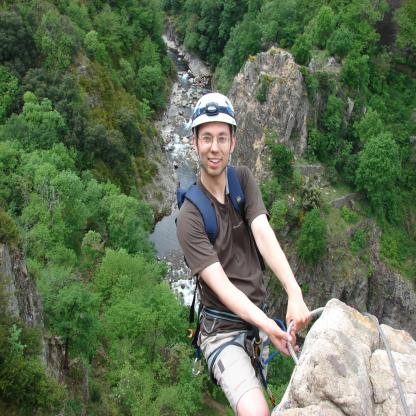Helmet: (188, 93, 238, 182)
